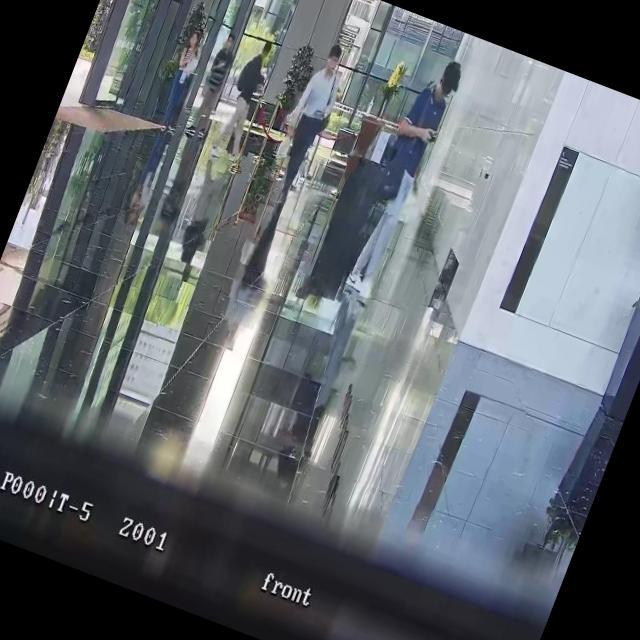person: (337, 49, 467, 300), (256, 38, 356, 214), (206, 35, 289, 174), (382, 50, 466, 183), (154, 27, 212, 136), (186, 30, 242, 136), (156, 26, 210, 130)
